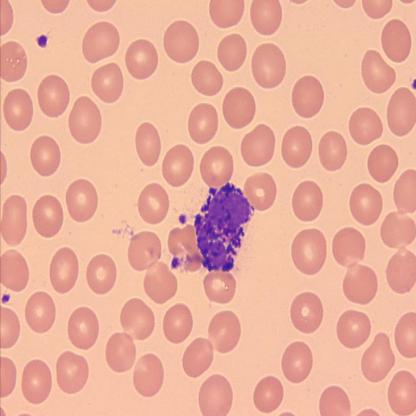Basophil: (191, 180, 257, 275)
